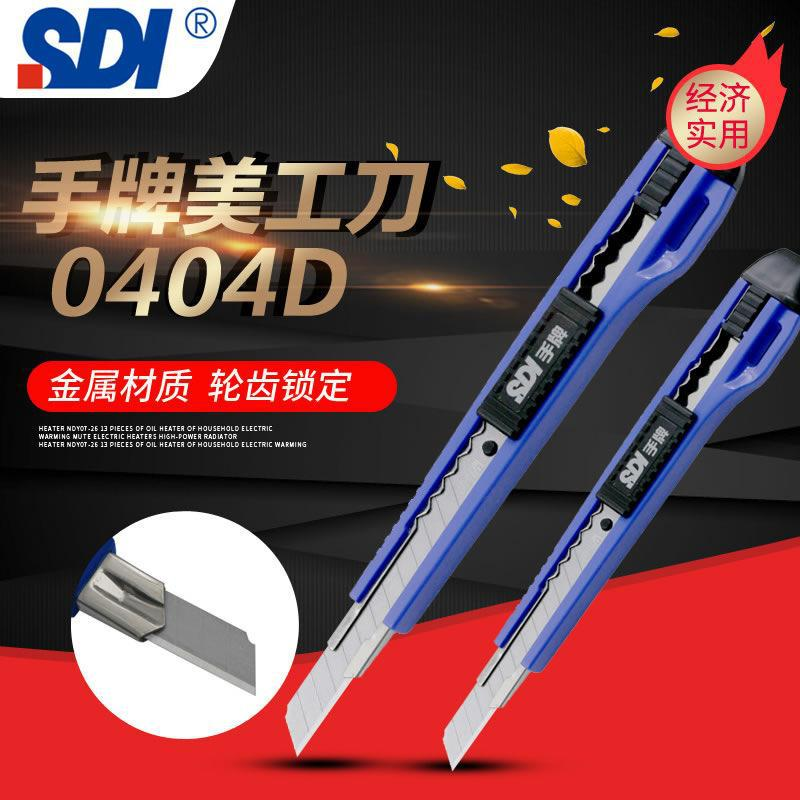cutter: (285, 120, 747, 758), (441, 246, 800, 772), (66, 536, 261, 697)
